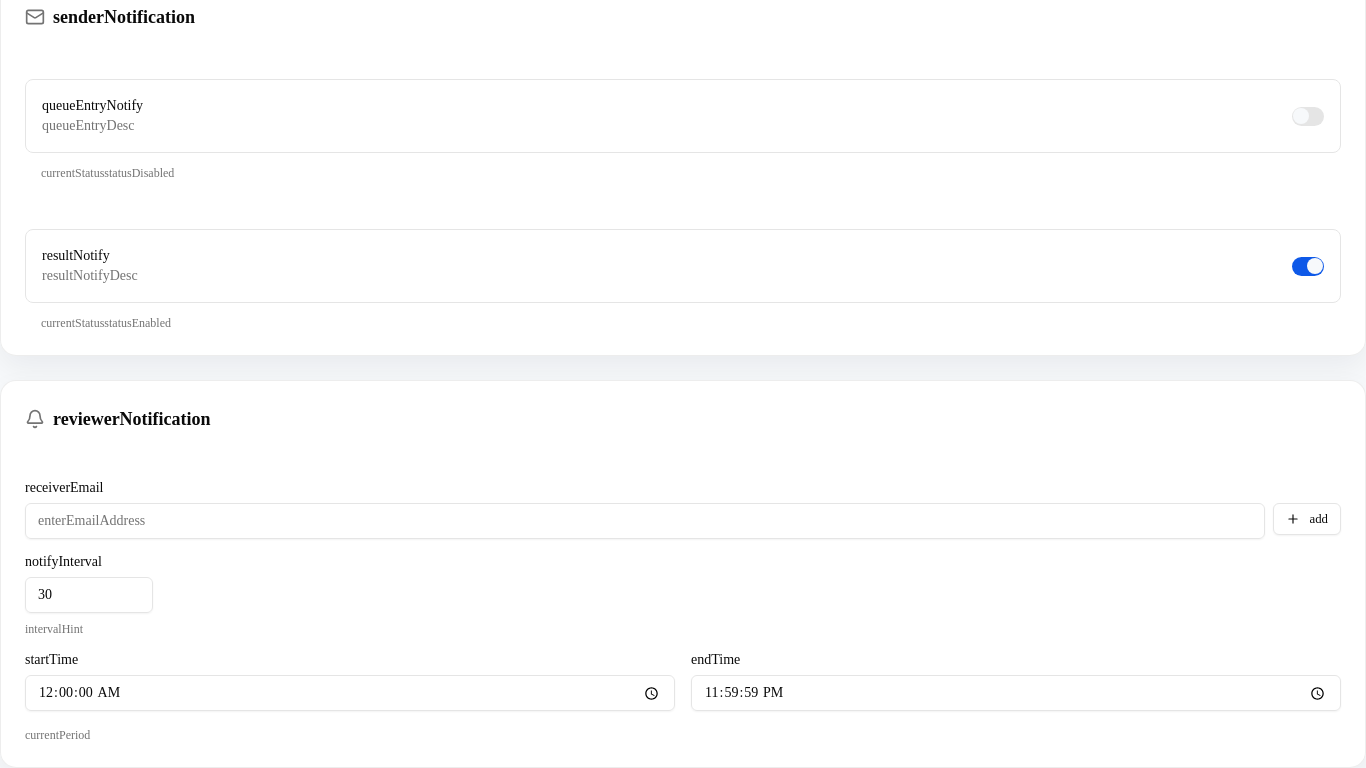
ReviewSettingsTab reviewer email validation feedback (GT-12250) › accepts a valid address: chip appears, input clears, no error
The width and height of the screenshot is (1366, 768).
(page scrolled)
In the field with test id "disposal-settings-reviewer-email-input": (645, 521) [25,503,1264,539], type "ok@corp.com"
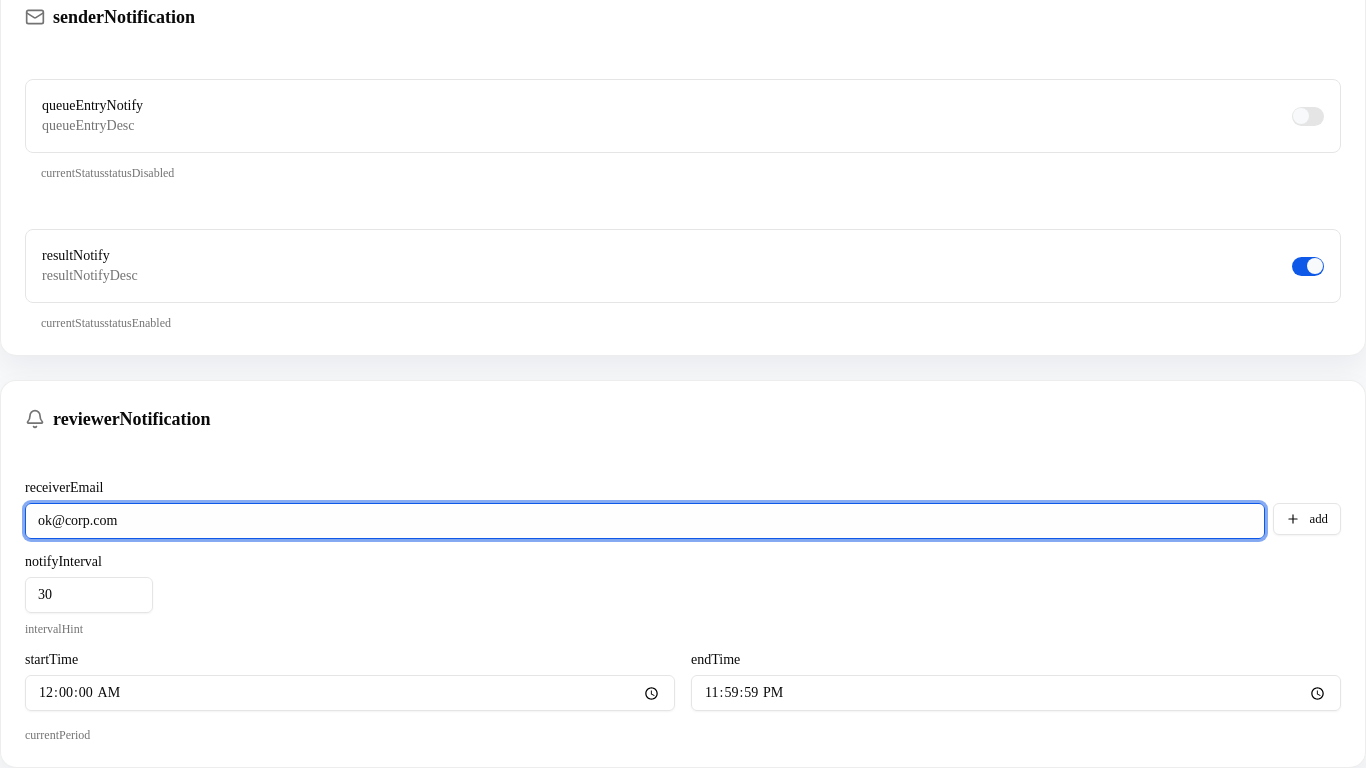
Click the button with test id "disposal-settings-reviewer-email-add": (1307, 519) [1272,503,1341,535]
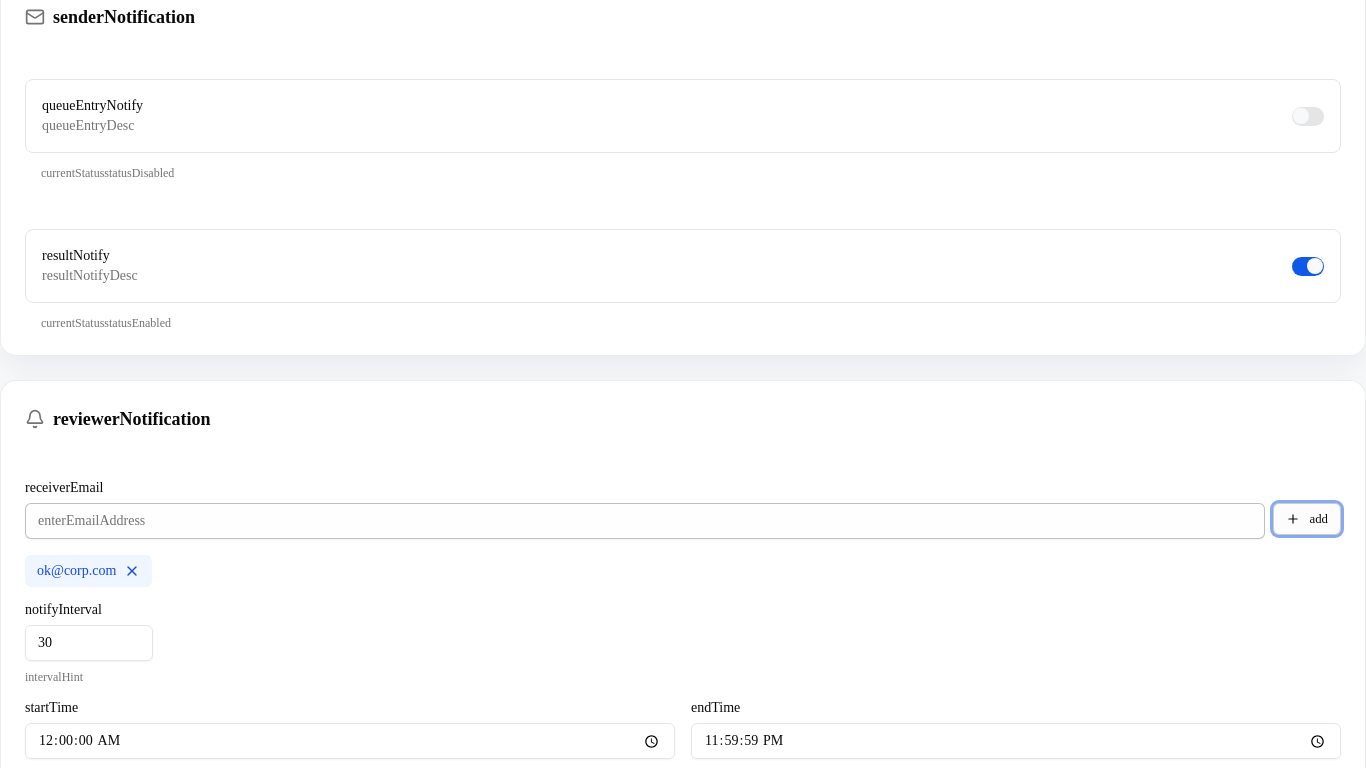
Expected: the field with test id "disposal-settings-reviewer-email-input" is empty, [25,503,1264,539]
Expected: the text "ok@corp.com" is shown, [25,555,152,587]
